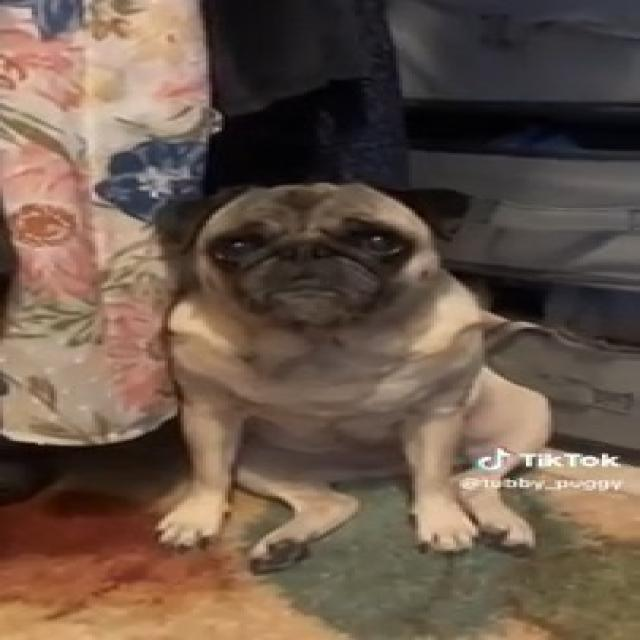dogs: (162, 180, 587, 569)
